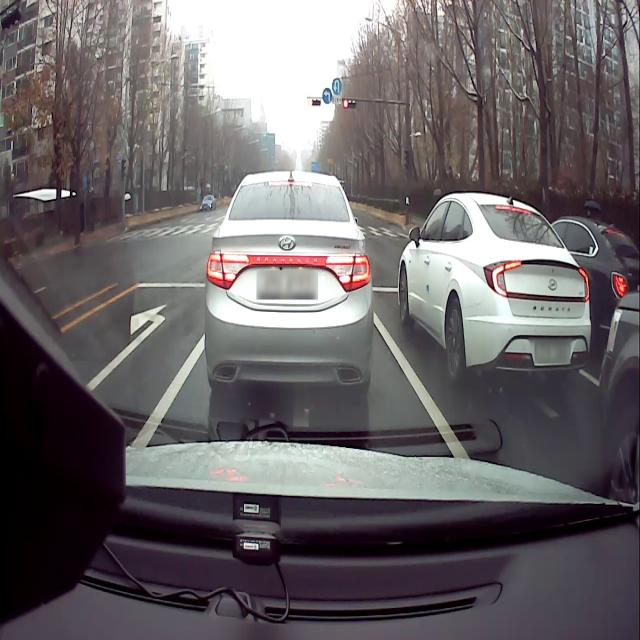Red Light: (343, 98, 349, 109), (307, 97, 313, 106)
